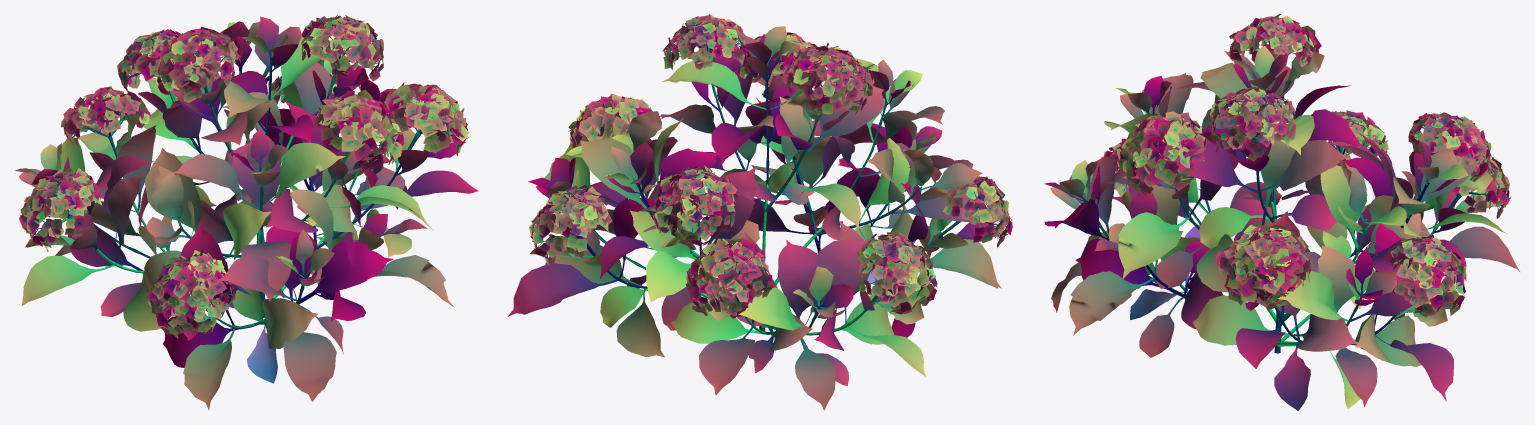
File: Bigleaf_Hydrangea_vgztealha_Mid_vgztealha_VarA_LOD0.fbx
3 views of the same model, side by side, from view 1: azimuth 30°, elevation 25°; view 2: azimuth 150°, elevation 25°; view 3: azimuth 270°, elevation 25° (orthographic).
Visible parts, largest first — view 1: _dlnq_VarA_LOD1; view 2: _dlnq_VarA_LOD1; view 3: _dlnq_VarA_LOD1.
Boxes of the visible parts, x1,y1,x2,y2 form: _dlnq_VarA_LOD1: (15, 14, 478, 410); _dlnq_VarA_LOD1: (507, 14, 1012, 410); _dlnq_VarA_LOD1: (1044, 14, 1519, 410).
Bounding box in the file's own units: 104 × 73.33 × 104.
